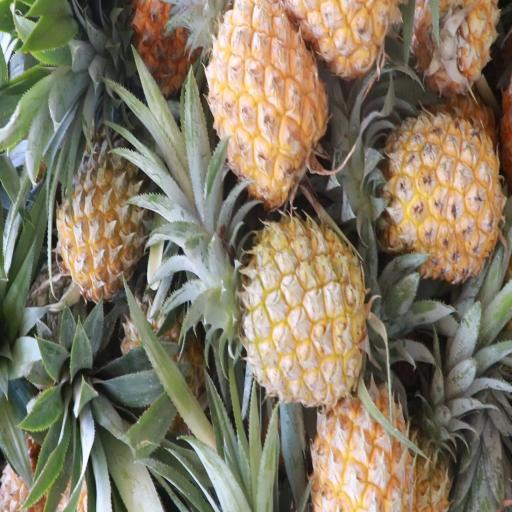Pineapple - v8 v1: (231, 209, 369, 411), (205, 0, 333, 205), (358, 109, 503, 282), (52, 114, 142, 303), (308, 379, 416, 512)
